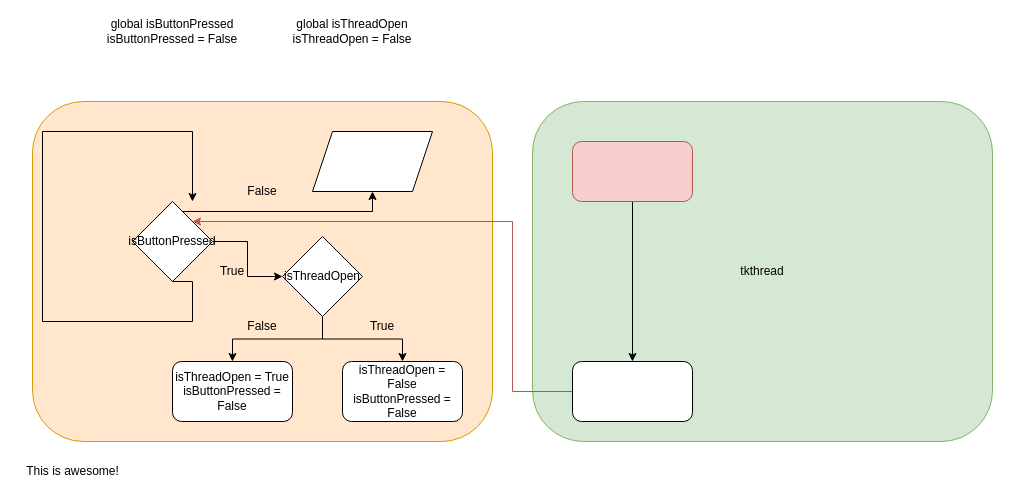
Some shapes in this 1010 by 499 pixel diagram are drawn without their labels. The centre of each missing label's shape, as x and y in pixels:
"DO NOTHING" belongs at [372,161].
"isButtonPressed = True" belongs at [632,391].
"when someone presses the button" belongs at [632,171].
